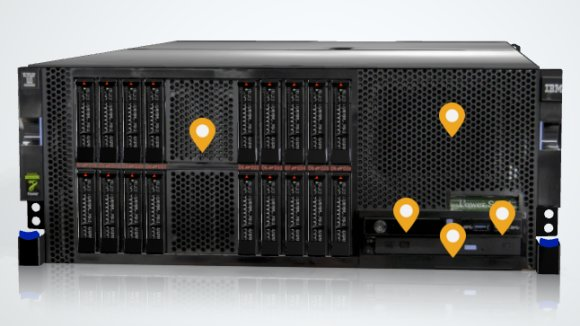ibm-server: (8, 33, 564, 284)
